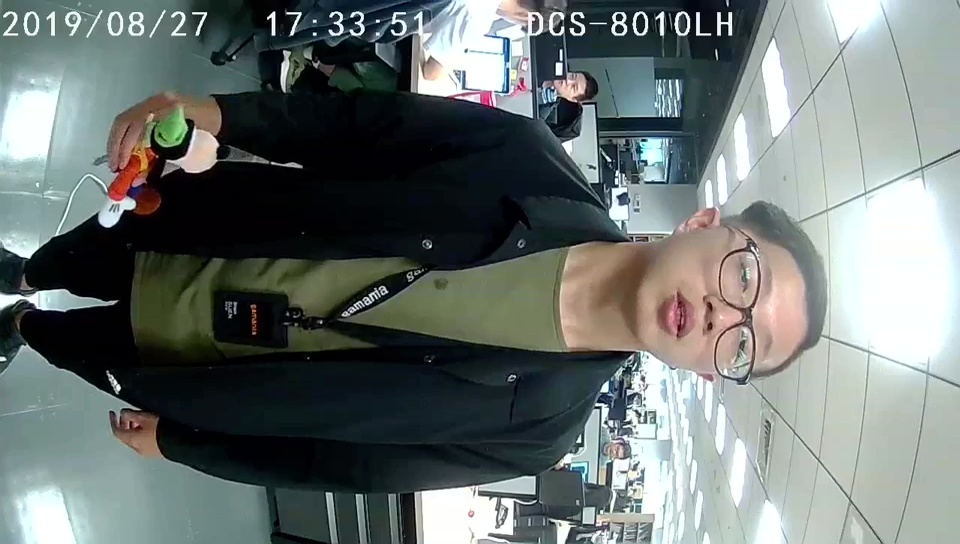goofy: (98, 105, 222, 229)
